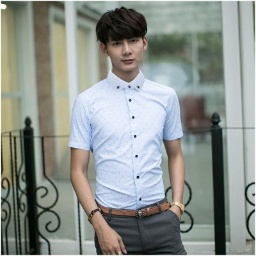face: (96, 6, 148, 74)
